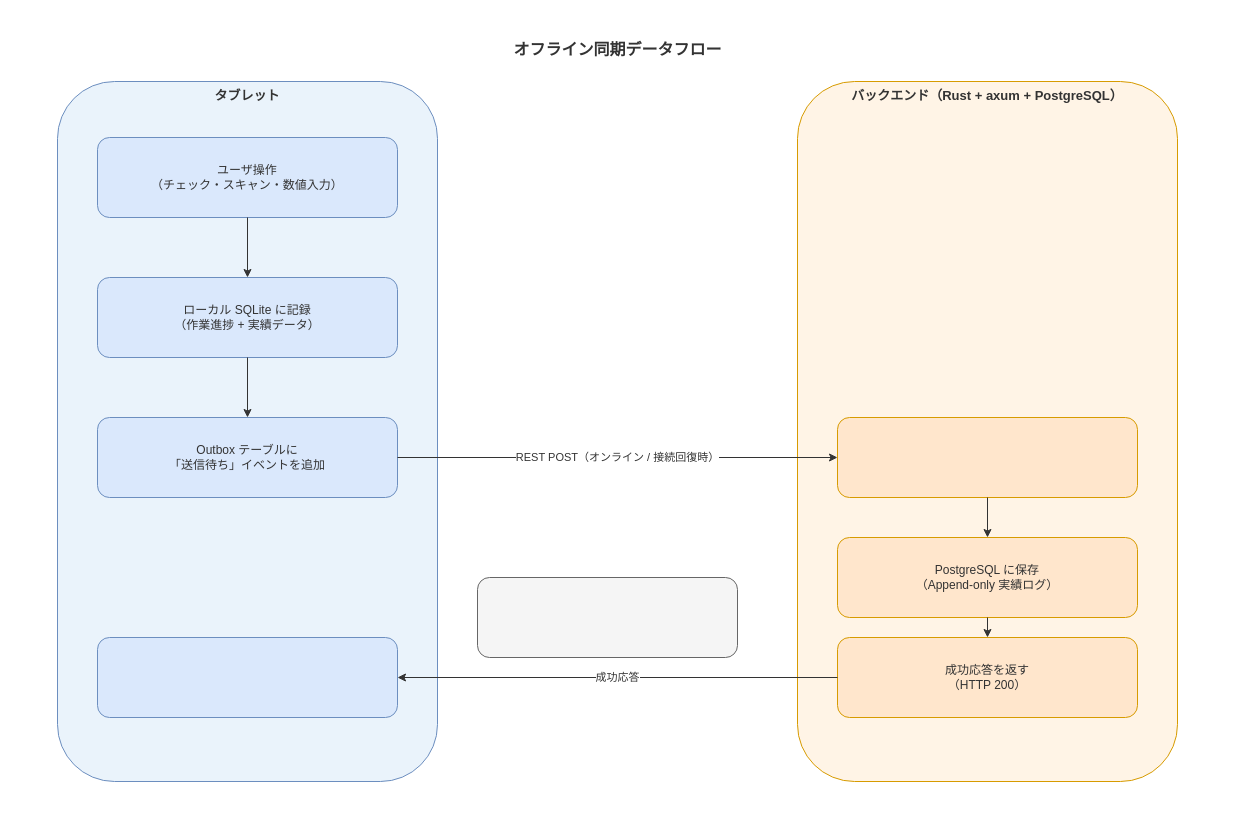
The diagram is 1234 pixels wide and 834 high, and some of its shapes have lost their labels. The shapes that lost their labels are listed below. From the top down, each one's box as (x1, y1, x2, y2) in pixels, then its label:
(836, 416, 1138, 498): Idempotency Key で重複チェック （初回のみ処理）
(476, 576, 738, 658): オフライン時: Outbox に蓄積し続け、 接続回復まで待機
(96, 636, 398, 718): Outbox を「送信済み」に更新 （同期完了確認）
